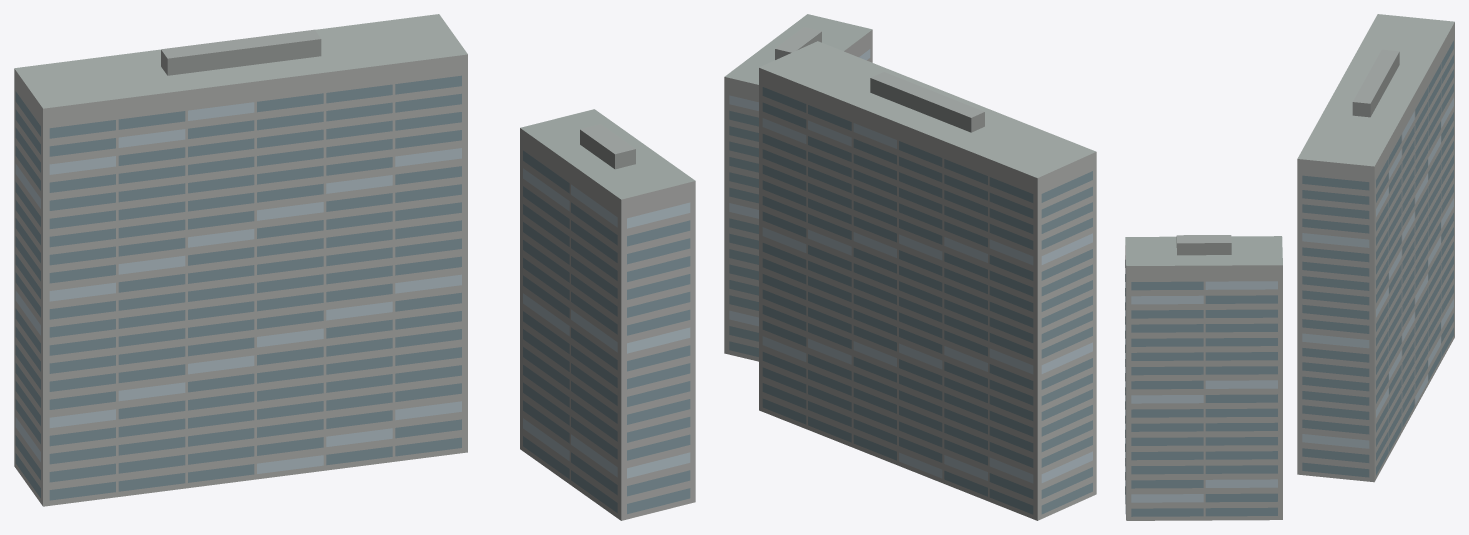
Rendered from apt-a15807202.glb.
The picture shows the model from 3 angles, left to right: view 1: azimuth 30°, elevation 25°; view 2: azimuth 150°, elevation 25°; view 3: azimuth 270°, elevation 25°; orthographic projection. The views are drawn at different scales.
Visible parts, largest first — view 1: apt-a15807202; view 2: apt-a15807202; view 3: apt-a15807202.
Part boxes in pixels (x1,y1,x2,y2): apt-a15807202: (14, 14, 695, 520); apt-a15807202: (724, 14, 1096, 520); apt-a15807202: (1125, 14, 1454, 520).
Size of the model in its own units: 72.27 by 58 by 52.66.
